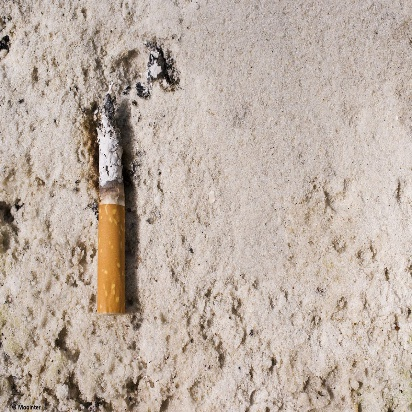cigarette: (88, 106, 134, 330)
